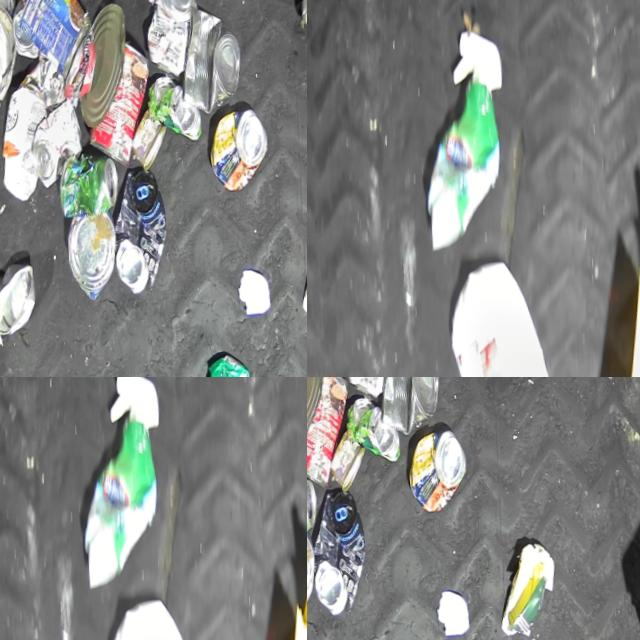can: (81, 40, 155, 170), (108, 169, 173, 297), (307, 489, 371, 618), (175, 2, 245, 118), (73, 3, 131, 128), (14, 0, 96, 84), (206, 108, 272, 195), (405, 429, 471, 516), (29, 98, 87, 190), (307, 377, 354, 490), (63, 213, 121, 303), (140, 0, 200, 80), (58, 151, 122, 221), (373, 377, 443, 438), (146, 74, 203, 146), (345, 395, 402, 467), (0, 263, 39, 341), (128, 109, 169, 172), (327, 430, 368, 493), (0, 4, 20, 104), (10, 0, 39, 62), (307, 377, 330, 449), (339, 377, 399, 401), (204, 353, 257, 377), (307, 534, 319, 624), (307, 472, 320, 541)
milk_jug: (438, 247, 565, 377), (95, 585, 222, 640)
